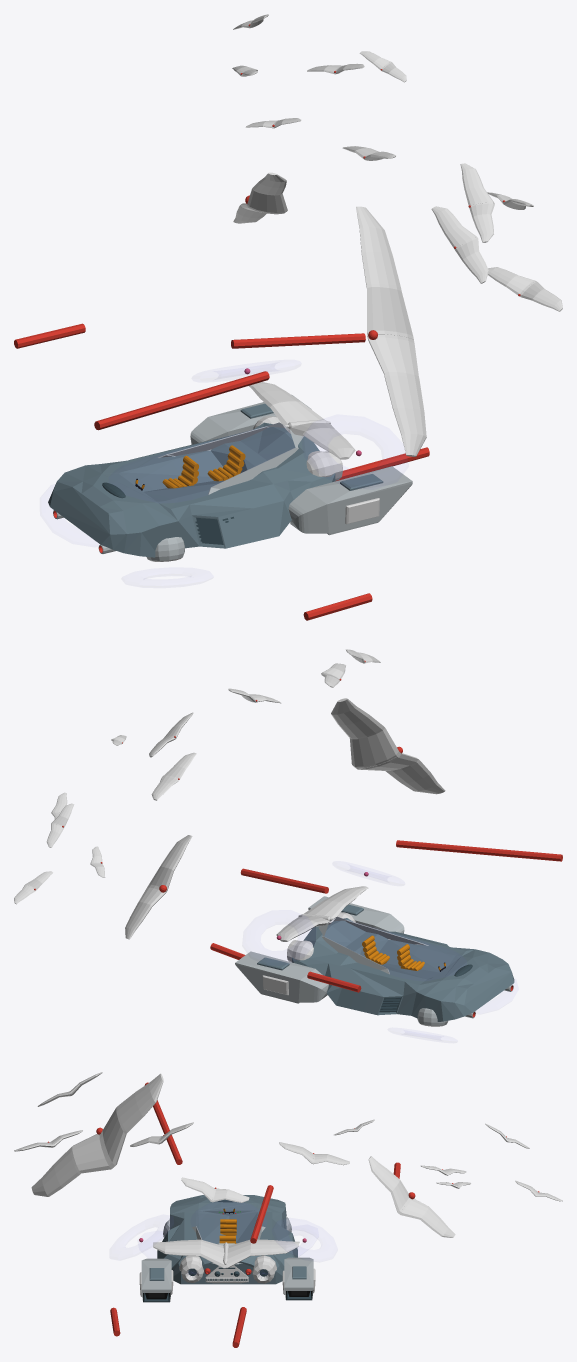
3 renders of one model, top to bottom at view 1: azimuth 30°, elevation 25°; view 2: azimuth 150°, elevation 25°; view 3: azimuth 270°, elevation 25°, orthographic. The views are drawn at different scales.
Parts seen in each view (by area): view 1: node_MeshObject-1050871104-PolyPaper8, node_MeshObject1687936000-PolyPaper23, node_MeshObject1169215936-PolyPaper17, node_MeshObject-517950848-PolyPaper13; view 2: node_MeshObject-1050871104-PolyPaper8, node_MeshObject1687936000-PolyPaper23, node_MeshObject1169215936-PolyPaper17, node_MeshObject-517950848-PolyPaper13; view 3: node_MeshObject1687936000-PolyPaper23, node_MeshObject1169215936-PolyPaper17, node_MeshObject-1050871104-PolyPaper8, node_MeshObject-517950848-PolyPaper13.
Boxes of the visible parts, x1,y1,x2,y2 form: node_MeshObject-1050871104-PolyPaper8: [48, 24, 335, 557]; node_MeshObject1687936000-PolyPaper23: [94, 118, 429, 620]; node_MeshObject1169215936-PolyPaper17: [14, 20, 533, 522]; node_MeshObject-517950848-PolyPaper13: [138, 14, 562, 542]; node_MeshObject-1050871104-PolyPaper8: [62, 826, 514, 1021]; node_MeshObject1687936000-PolyPaper23: [90, 698, 562, 991]; node_MeshObject1169215936-PolyPaper17: [14, 688, 475, 1026]; node_MeshObject-517950848-PolyPaper13: [51, 649, 443, 1012]; node_MeshObject1687936000-PolyPaper23: [101, 1073, 458, 1347]; node_MeshObject1169215936-PolyPaper17: [31, 1122, 562, 1300]; node_MeshObject-1050871104-PolyPaper8: [157, 1136, 506, 1284]; node_MeshObject-517950848-PolyPaper13: [14, 1072, 507, 1294].
Size of the model in its own units: 6.41 by 5.06 by 8.85.
